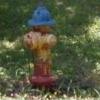Hydrant: (17, 9, 65, 87)
